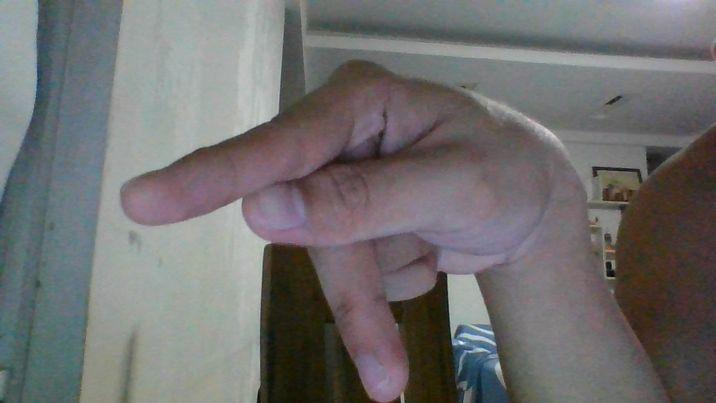p: (120, 56, 589, 403)
